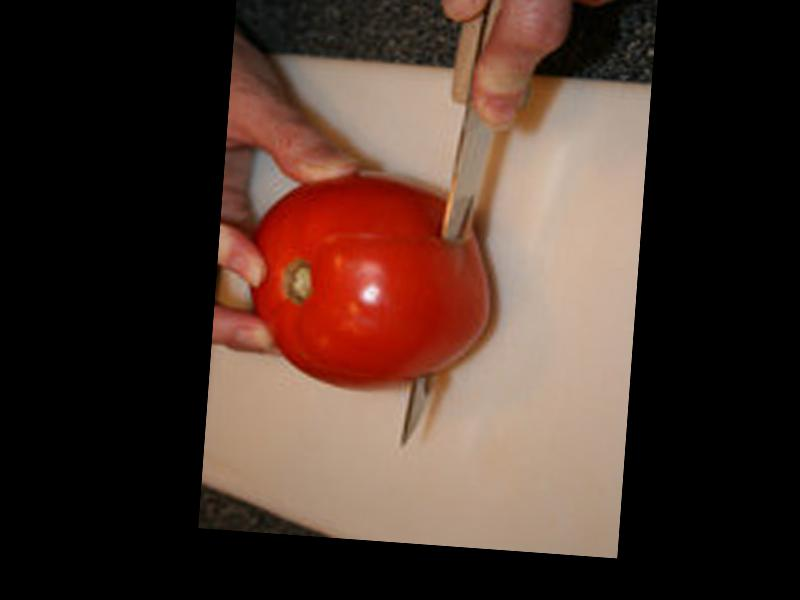Tomato: (241, 168, 498, 400)
